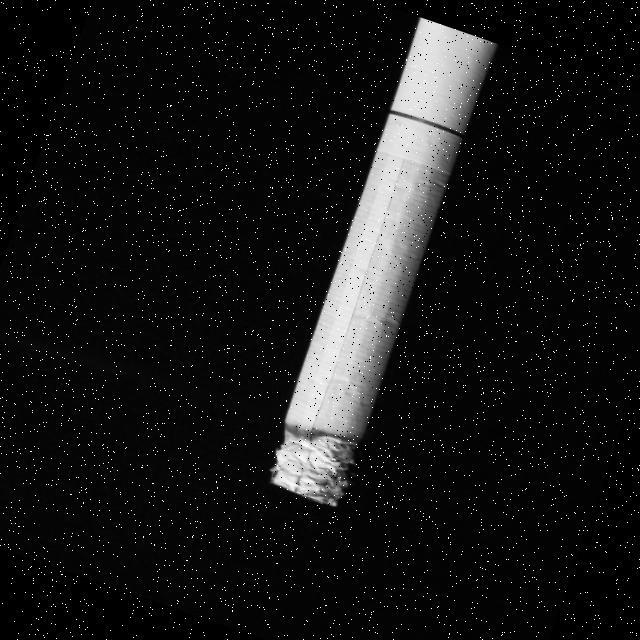cigarette: (258, 16, 500, 512)
